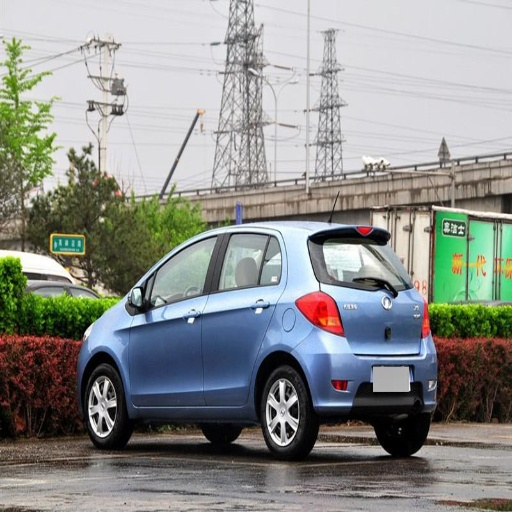back_bumper: (295, 328, 439, 418)
back_glass: (310, 232, 407, 289)
back_left_door: (202, 232, 283, 406)
trunk: (344, 291, 424, 357)
